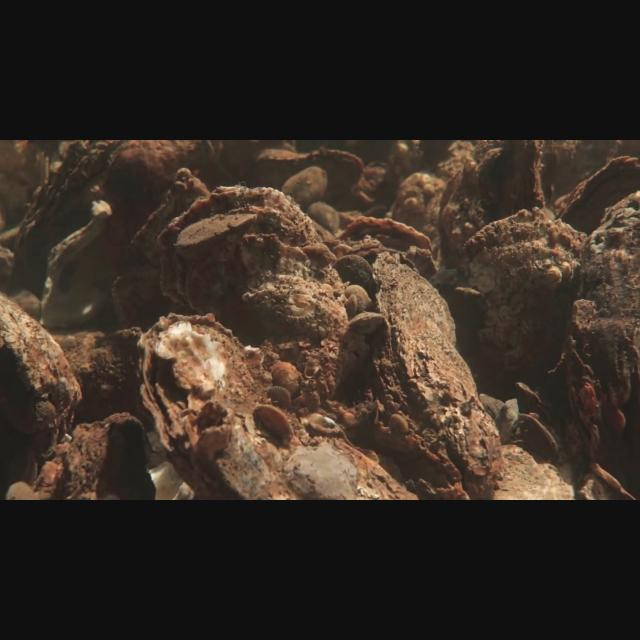Oyster-Closed: (125, 308, 427, 497), (154, 180, 351, 408), (368, 249, 508, 497), (462, 203, 595, 383), (108, 163, 214, 325), (7, 141, 124, 282), (425, 140, 549, 263), (2, 287, 88, 459), (31, 411, 161, 499), (34, 199, 118, 327), (332, 212, 441, 282), (254, 144, 371, 207), (552, 150, 640, 231), (518, 408, 560, 460), (281, 167, 330, 209), (307, 203, 340, 233)
